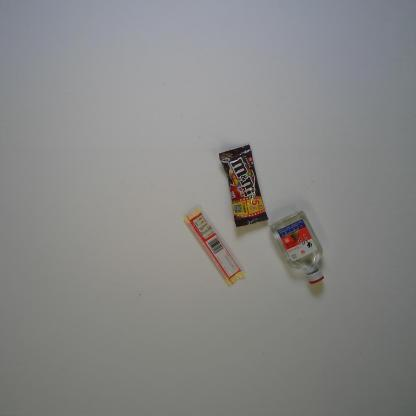Alcohol: (269, 209, 328, 286)
Chocolate: (182, 207, 246, 288), (218, 142, 269, 230)
